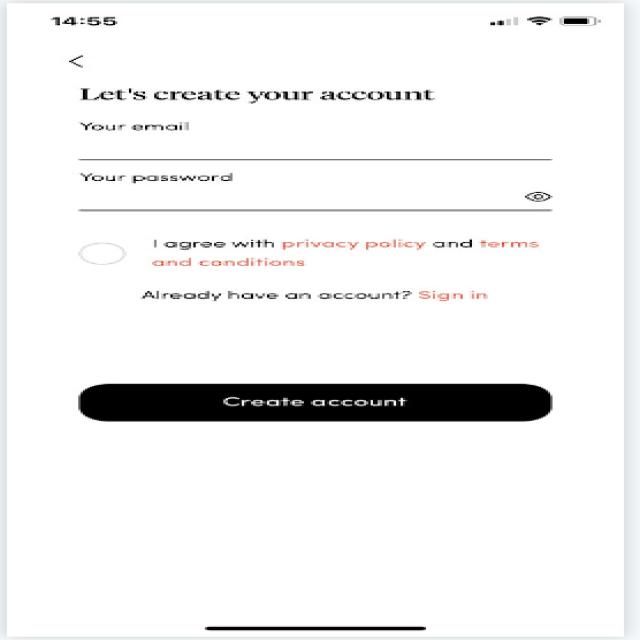button: (55, 383, 579, 425)
icon button: (52, 46, 119, 76)
input: (67, 164, 577, 221), (67, 118, 577, 170)
spacer: (66, 316, 574, 378)
text: (58, 229, 572, 311), (67, 82, 457, 114)
